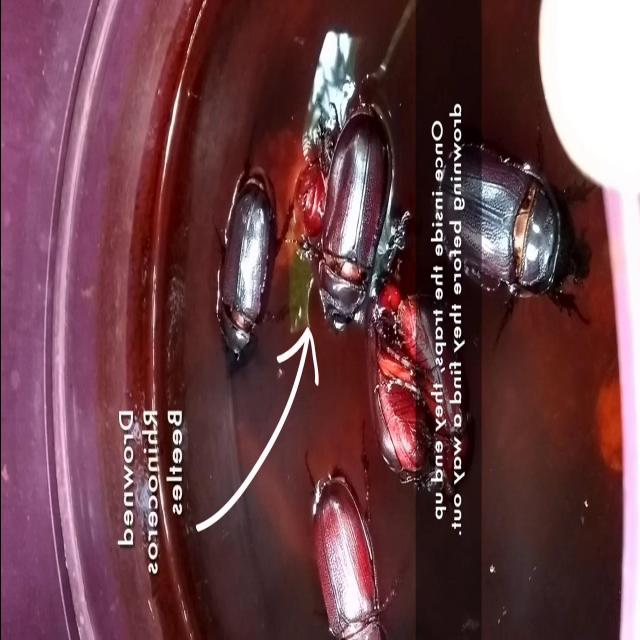Rhino-beetle: (301, 84, 401, 344), (204, 115, 284, 389), (472, 133, 582, 327), (306, 411, 374, 640)
